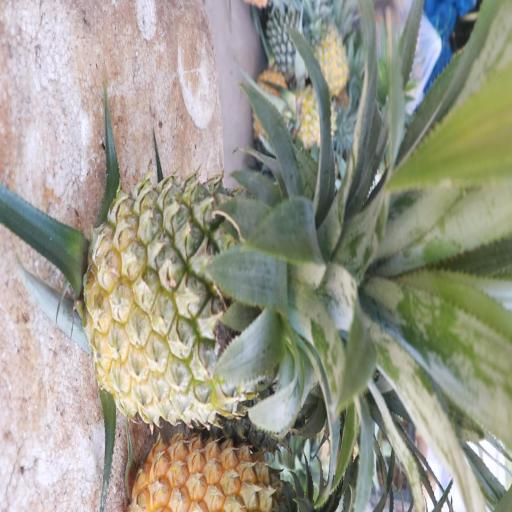------------------------------: (87, 178, 332, 424)
Pineapple - v8 v1: (309, 8, 352, 100)
